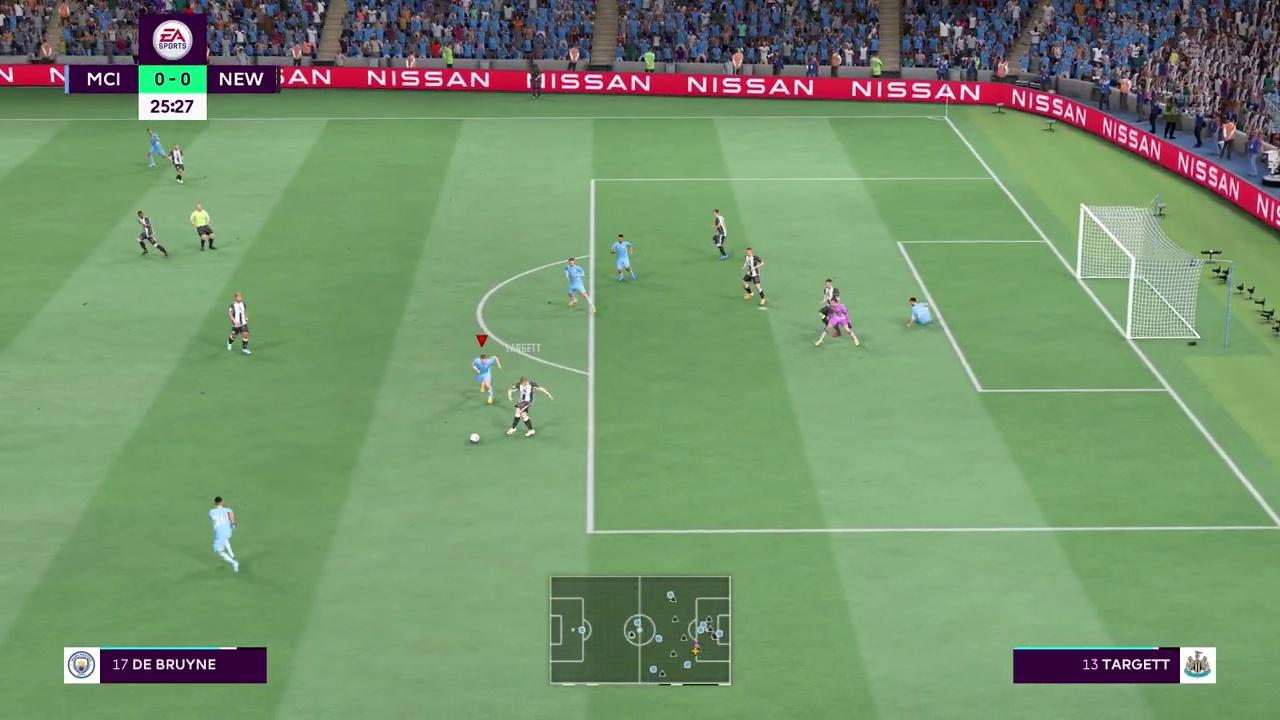scoreboard: (62, 61, 288, 91)
timestamp: (135, 97, 209, 120)
